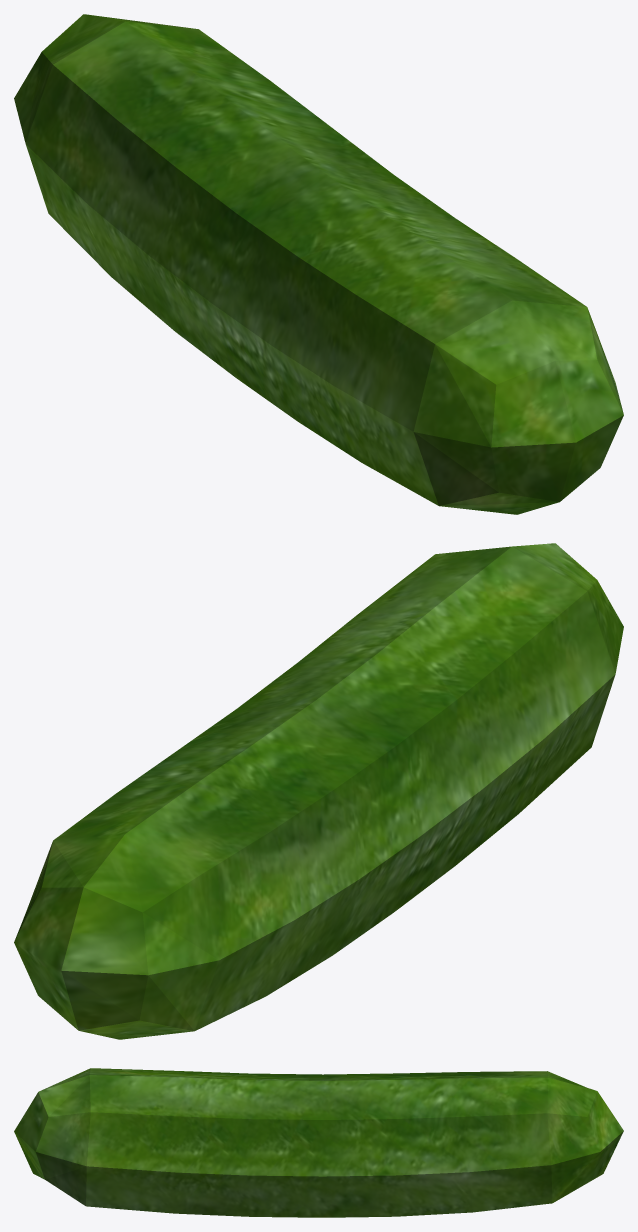
Rendered from 6bcba060-1ec3-44be-9145-df4a24bb1df1.glb.
3 renders of one model, top to bottom at view 1: azimuth 30°, elevation 25°; view 2: azimuth 150°, elevation 25°; view 3: azimuth 270°, elevation 25°, orthographic. The views are drawn at different scales.
Parts seen in each view (by area): view 1: Node; view 2: Node; view 3: Node.
Boxes of the visible parts, x1,y1,x2,y2 form: Node: [14, 14, 623, 514]; Node: [14, 543, 623, 1039]; Node: [14, 1068, 623, 1217].
Size of the model in its own units: 1 by 1.05 by 4.24.
Materials: 1 (1 with a texture image).
